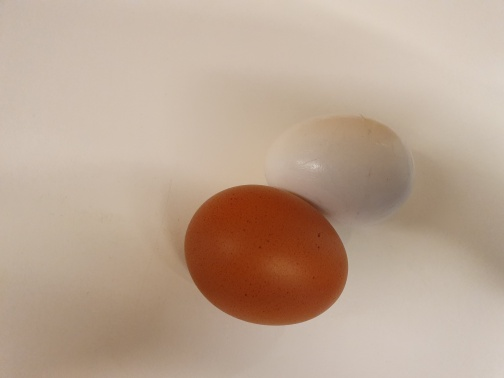egg: (182, 186, 348, 325), (263, 115, 416, 224)
